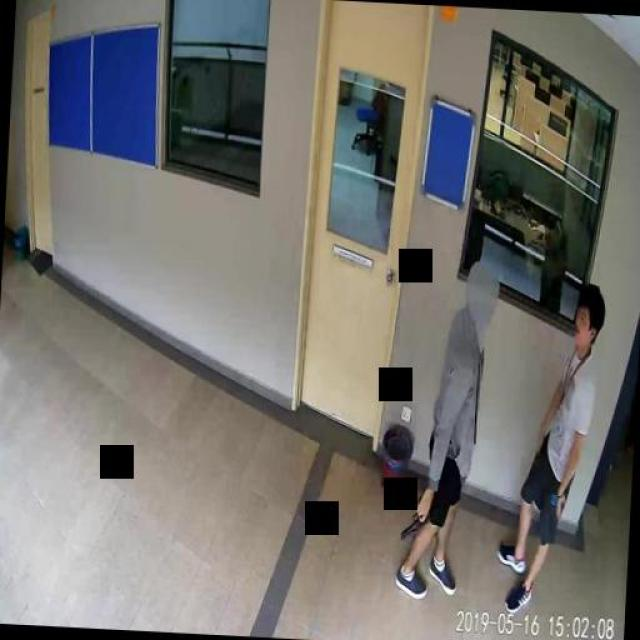gun: (400, 492, 430, 538)
